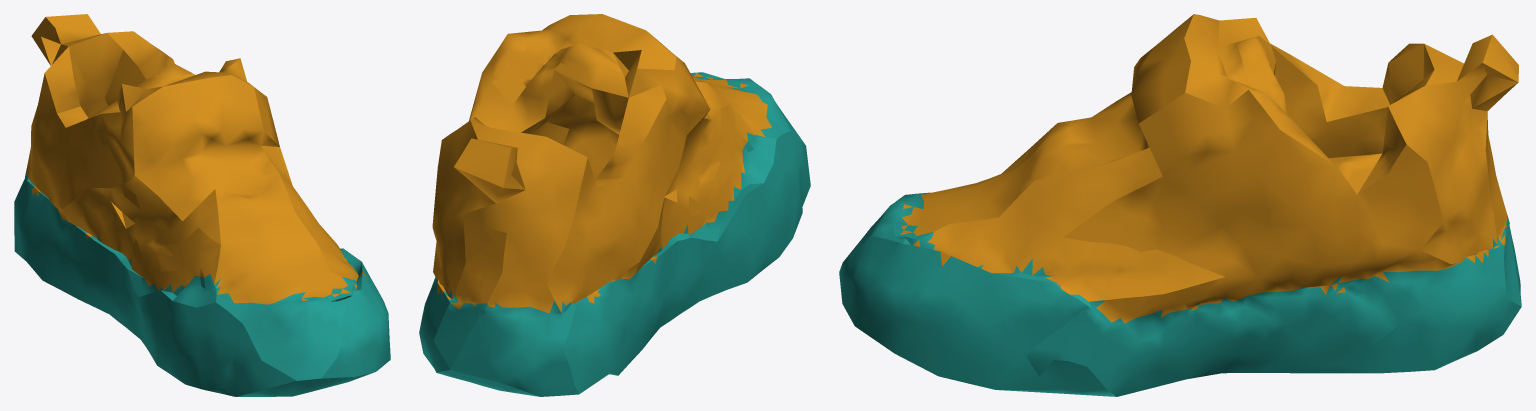
Rendered from segmentation_mesh.glb.
3 renders of one model, left to right at view 1: azimuth 30°, elevation 25°; view 2: azimuth 150°, elevation 25°; view 3: azimuth 270°, elevation 25°, orthographic. The views are drawn at different scales.
Visible parts, largest first — view 1: segmentation_map; view 2: segmentation_map; view 3: segmentation_map.
Boxes of the visible parts, x1=… form: segmentation_map: x1=14, y1=14, x2=390, y2=396; segmentation_map: x1=419, y1=14, x2=810, y2=396; segmentation_map: x1=839, y1=14, x2=1521, y2=396.
Bounding box in the file's own units: 0.1174 × 0.1431 × 0.2846.
